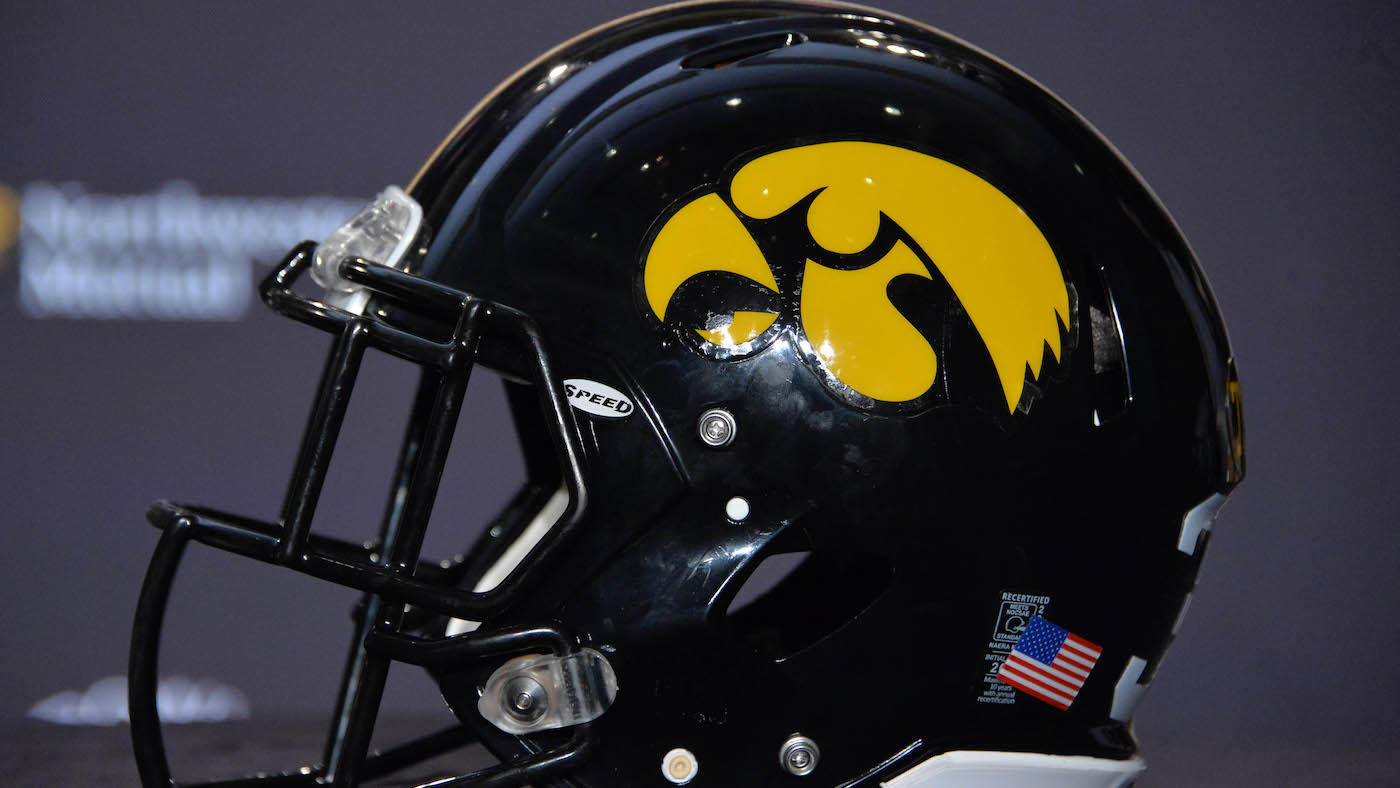helmet: (387, 0, 1293, 775)
